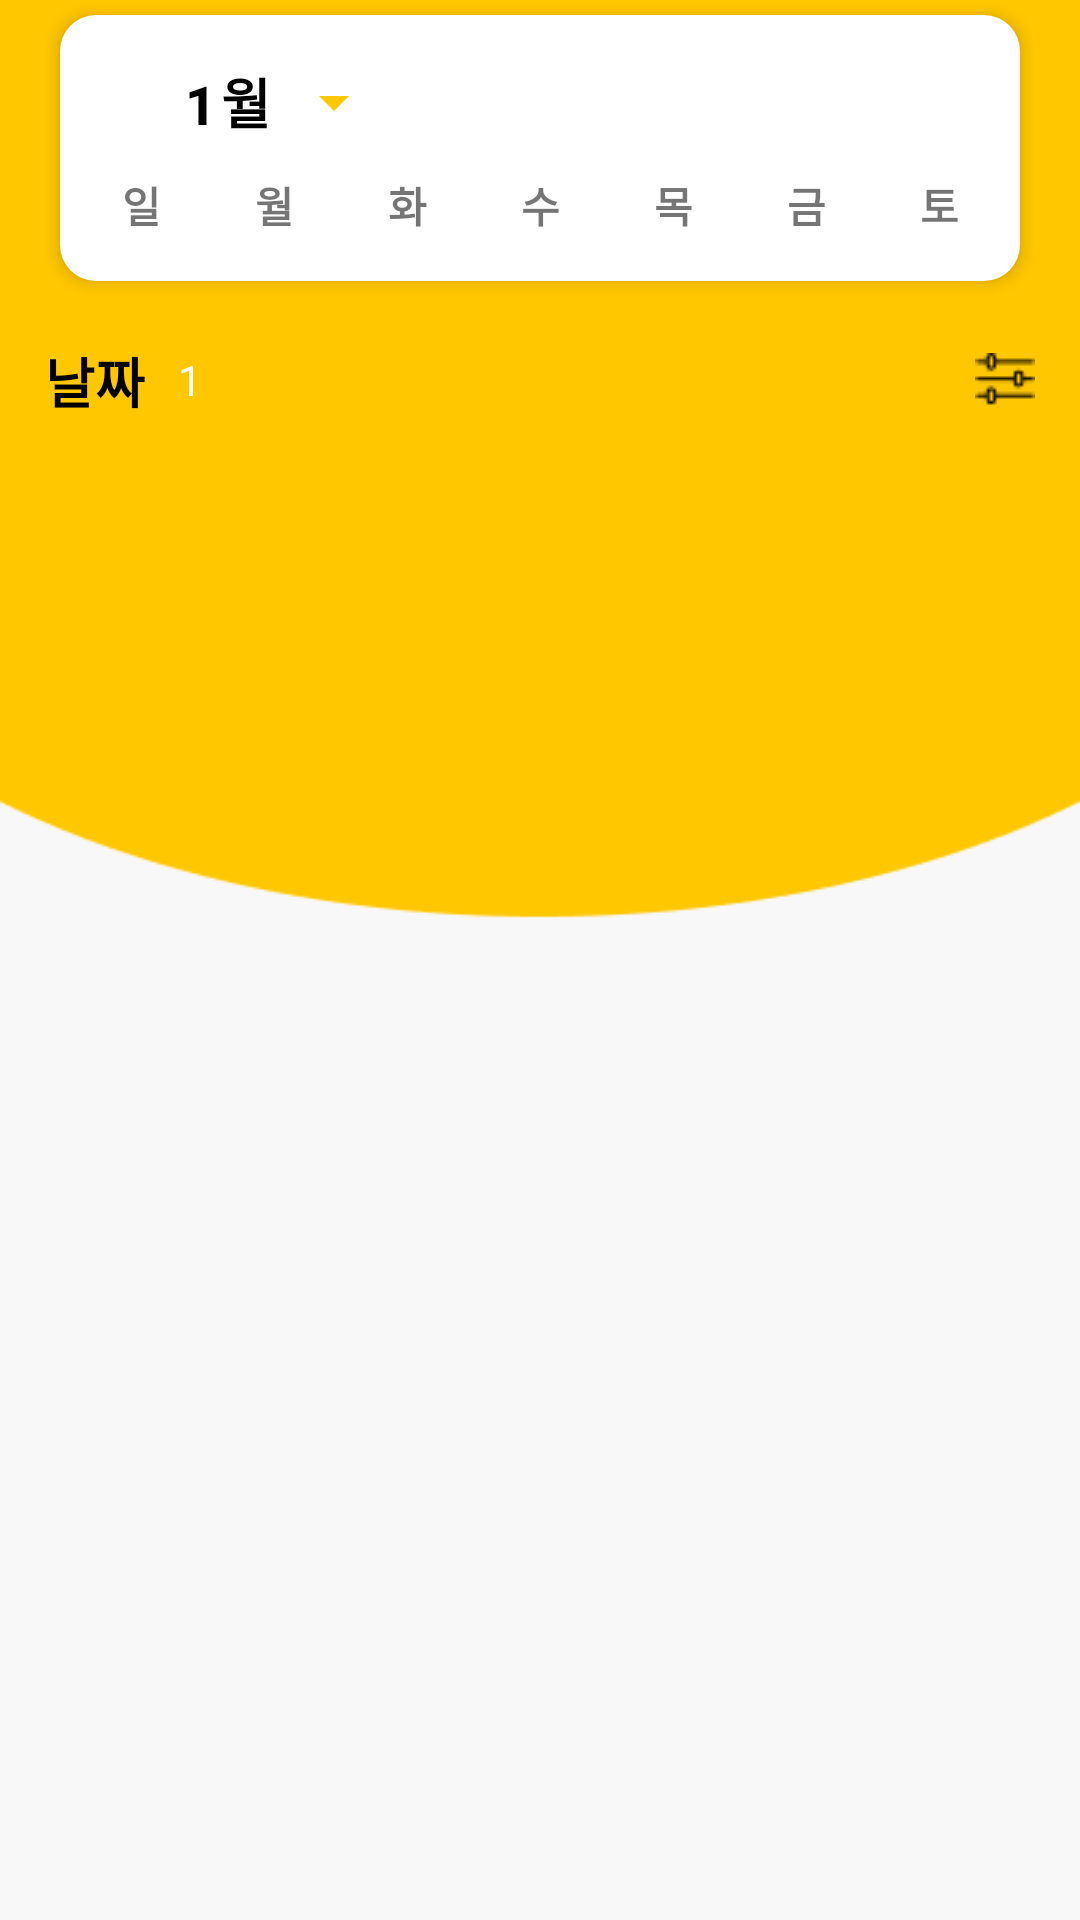

Named icons in this screenshot (1080px x 1920px) and their centers, (x,y):
setupicon: (1005,379)
